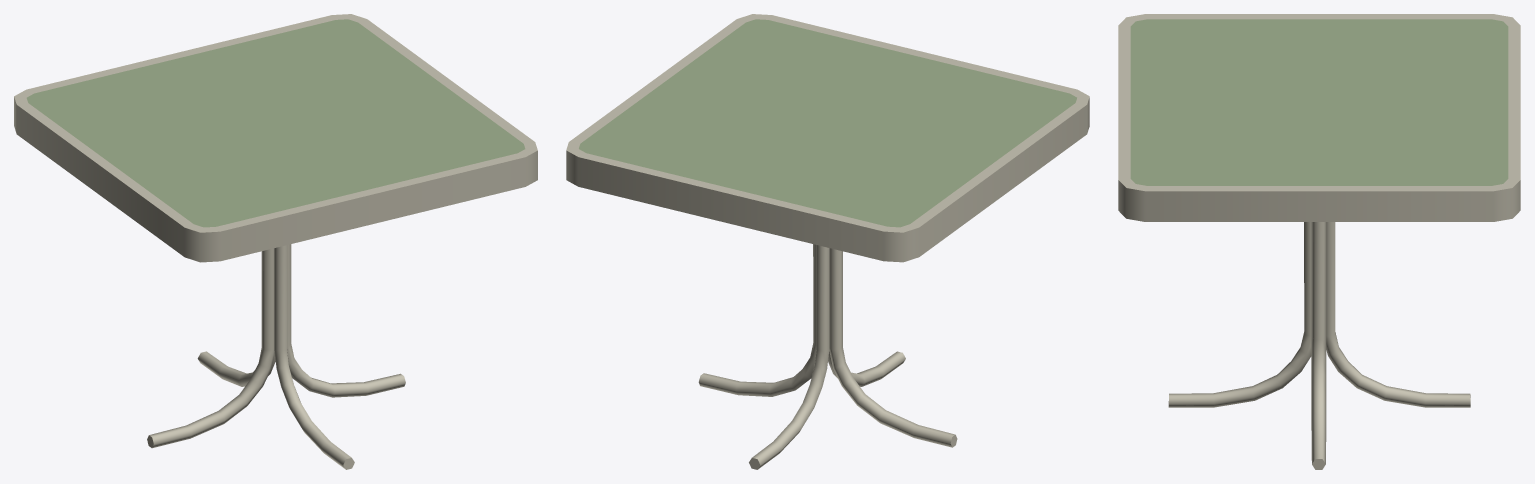
Rendered from KitchenTable_03.fbx.
The picture shows the model from 3 angles, left to right: view 1: azimuth 30°, elevation 25°; view 2: azimuth 150°, elevation 25°; view 3: azimuth 270°, elevation 25°; orthographic projection. The views are drawn at different scales.
Visible parts, largest first — view 1: KitchenTable_03; view 2: KitchenTable_03; view 3: KitchenTable_03.
Part boxes in pixels (x1,y1,x2,y2): KitchenTable_03: [14, 14, 537, 469]; KitchenTable_03: [566, 14, 1089, 469]; KitchenTable_03: [1118, 14, 1520, 469].
Bounding box in the file's own units: 1.06 × 0.8437 × 1.01.
